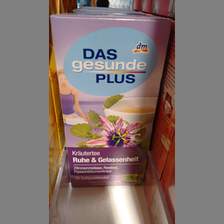tea: (50, 13, 171, 187)
